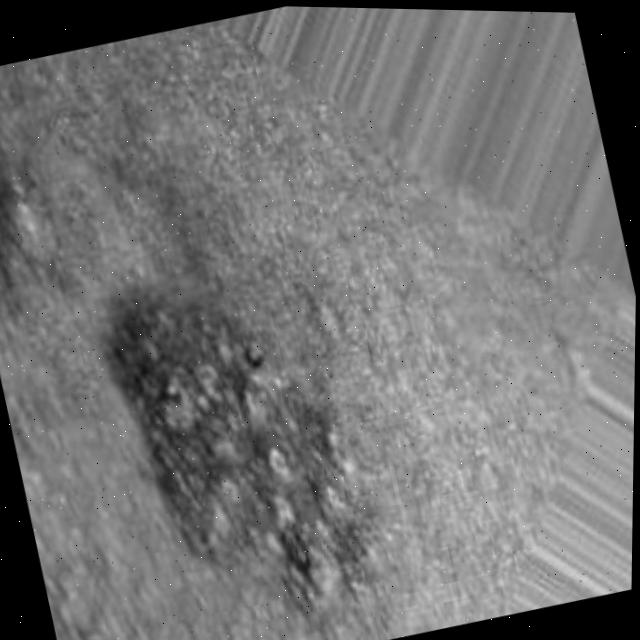Shingles: (129, 280, 378, 622)
